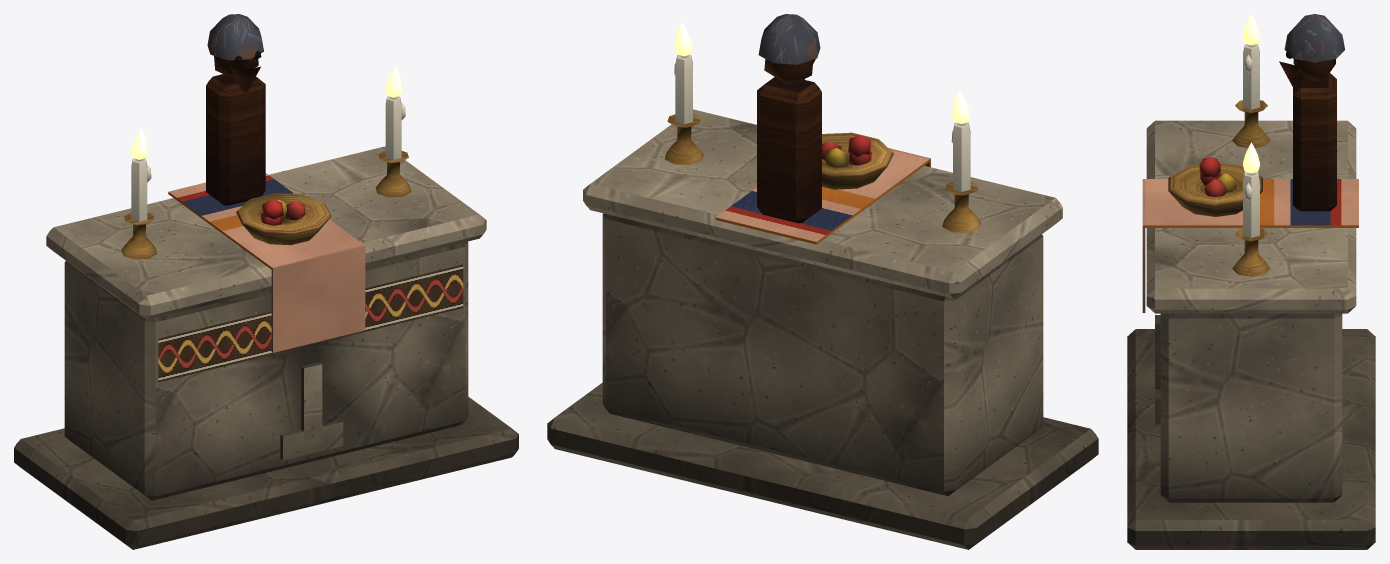
The model's file is interior_altar.glb.
3 views of the same model, side by side, from view 1: azimuth 30°, elevation 25°; view 2: azimuth 150°, elevation 25°; view 3: azimuth 270°, elevation 25° (orthographic). The views are drawn at different scales.
Parts seen in each view (by area): view 1: interior_altar; view 2: interior_altar; view 3: interior_altar.
Part boxes in pixels (x1,y1,x2,y2): interior_altar: (14, 14, 518, 549); interior_altar: (547, 14, 1098, 549); interior_altar: (1127, 14, 1375, 549).
Size of the model in its own units: 1.7 by 1.76 by 0.9.
10 materials, 6 textured.
